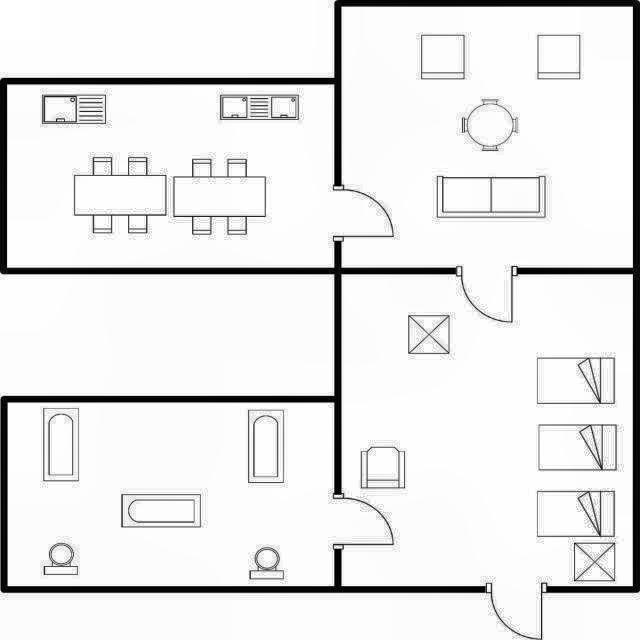room: (341, 275, 632, 586), (342, 6, 632, 268), (7, 403, 335, 587), (7, 85, 334, 267)
